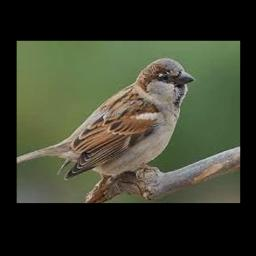Sparrow: (17, 58, 195, 180)
